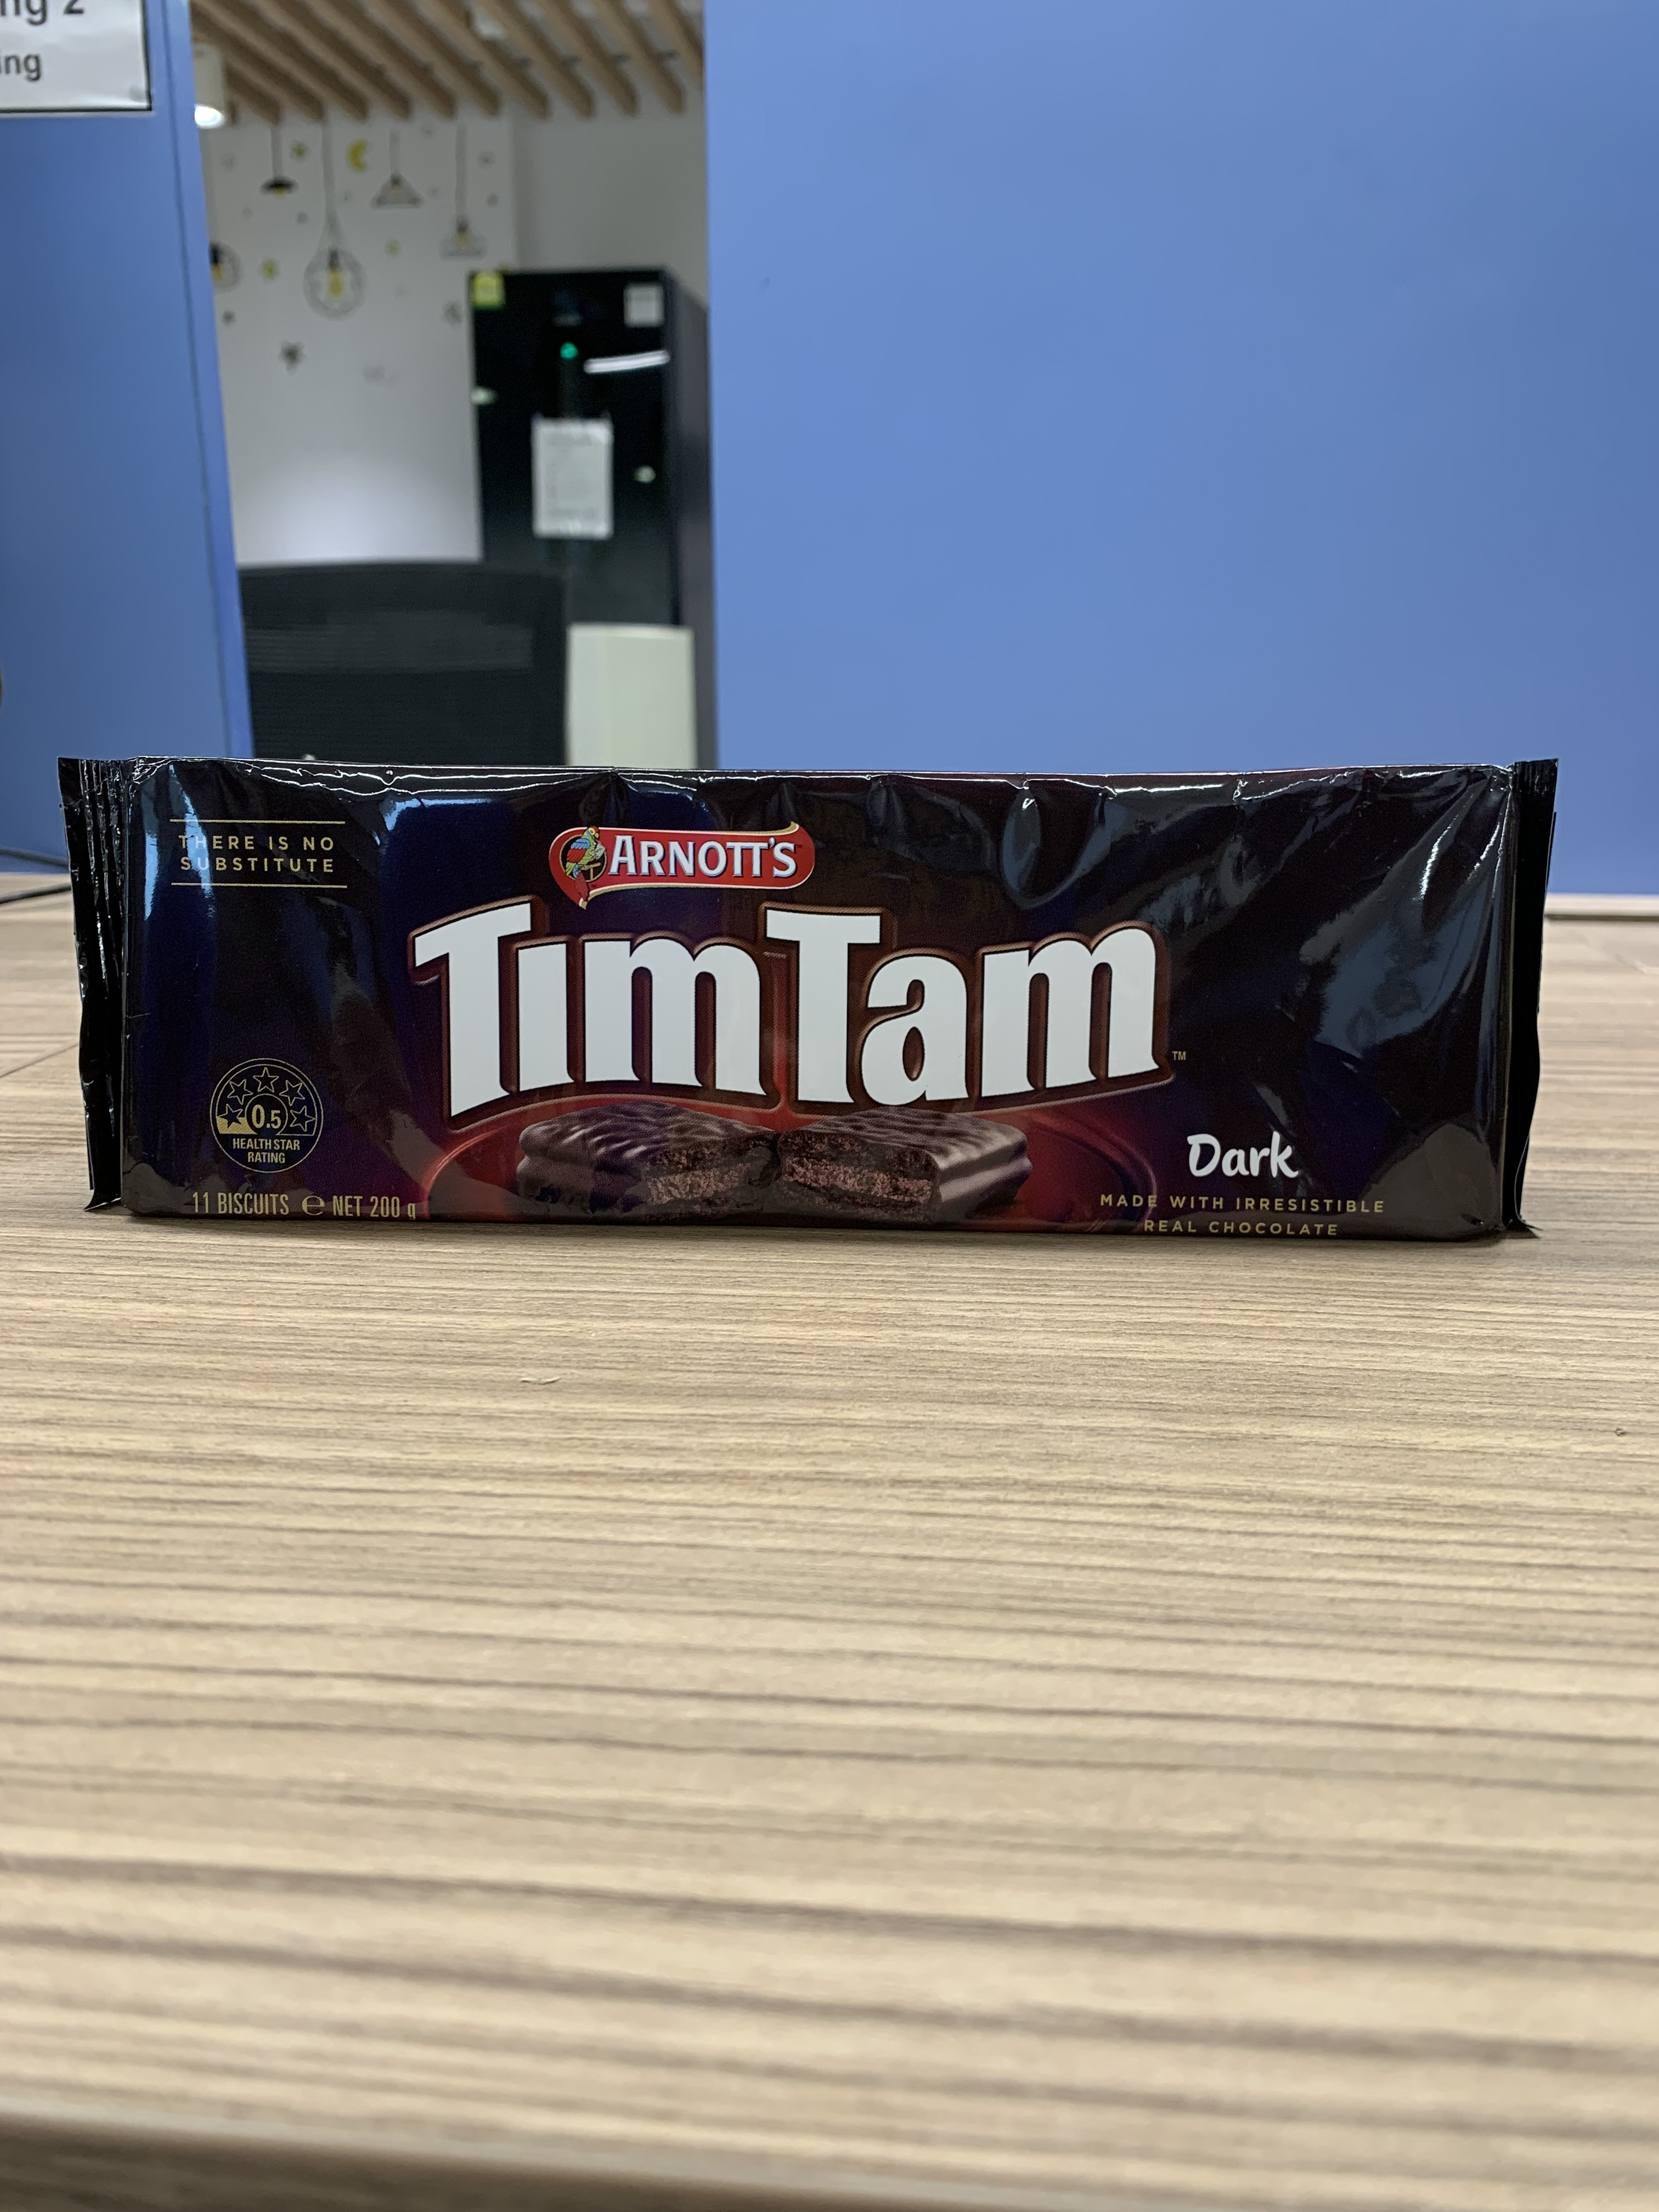cookies: (56, 737, 1584, 1240)
